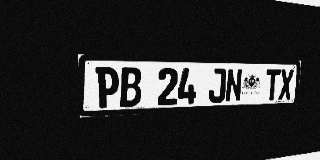2: (158, 68, 178, 105)
4: (177, 68, 197, 104)
B: (120, 67, 142, 107)
J: (208, 68, 226, 103)
N: (225, 68, 243, 102)
P: (96, 67, 119, 108)
T: (264, 69, 281, 101)
X: (278, 69, 294, 100)
